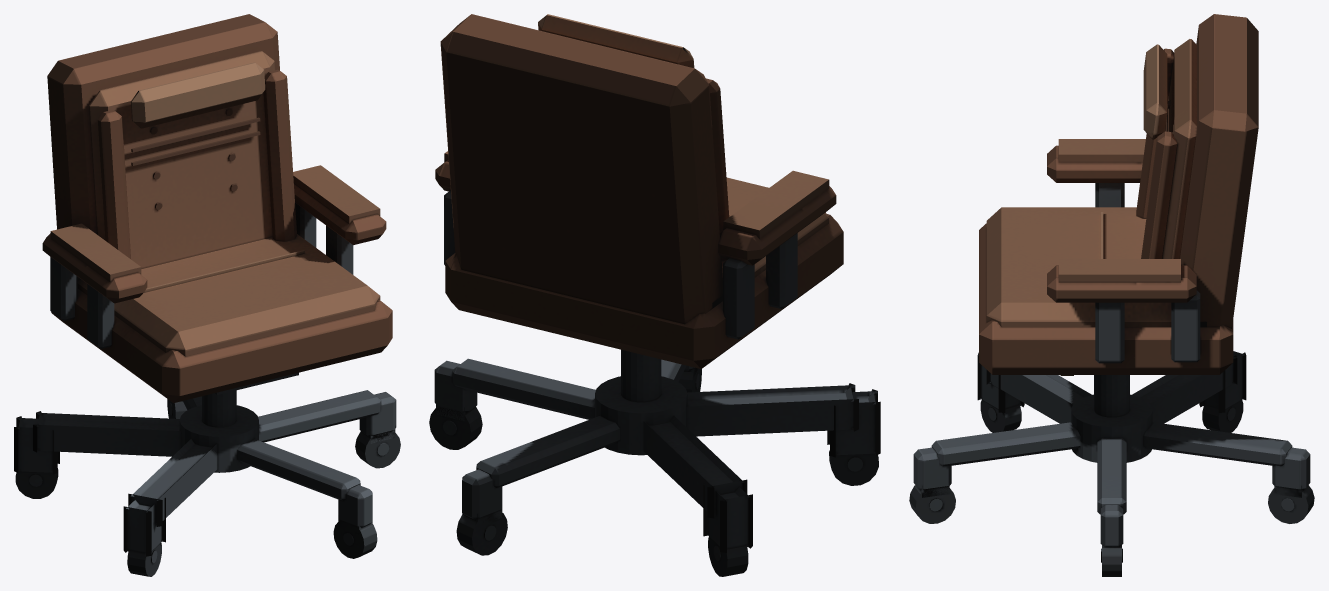
The model's file is 0-20261016-1900-ev051-r09-cfo-boardchair_baked.glb.
The picture shows the model from 3 angles, left to right: view 1: azimuth 30°, elevation 25°; view 2: azimuth 150°, elevation 25°; view 3: azimuth 270°, elevation 25°; orthographic projection. The views are drawn at different scales.
Visible parts, largest first — view 1: SW_Exec_BoardChair; view 2: SW_Exec_BoardChair; view 3: SW_Exec_BoardChair.
Boxes of the visible parts, <box> form: SW_Exec_BoardChair: <box>14,14,400,576</box>; SW_Exec_BoardChair: <box>429,14,880,576</box>; SW_Exec_BoardChair: <box>909,14,1314,576</box>.
Size of the model in its own units: 0.9963 by 1.23 by 1.04.
1 material, 1 textured.
